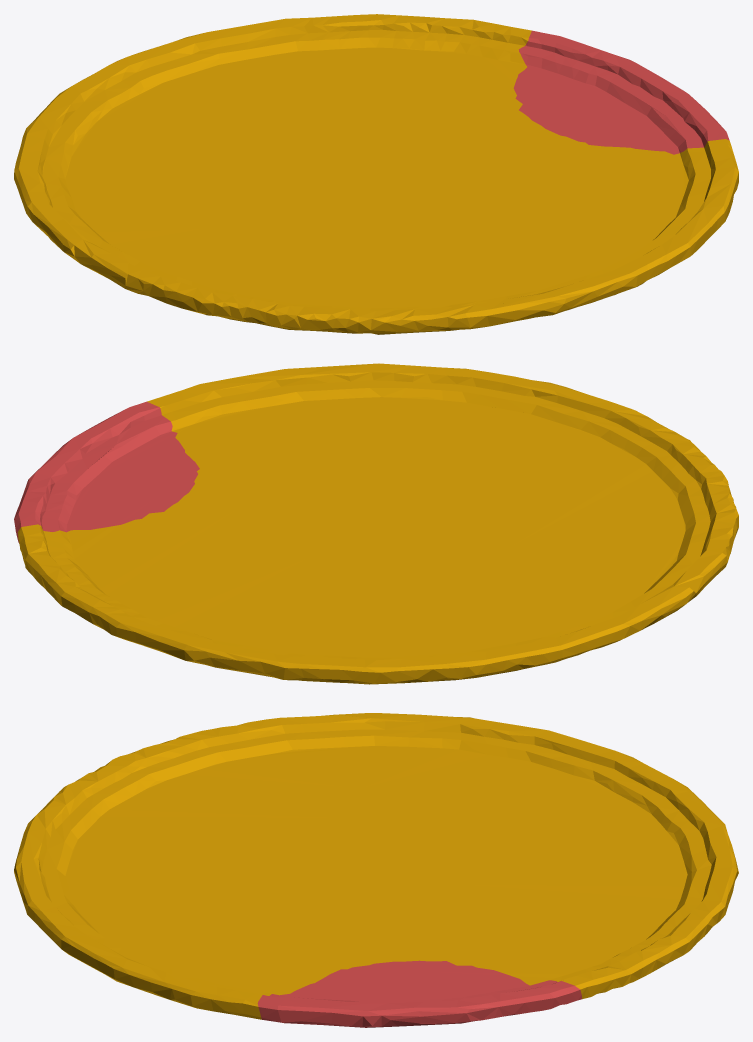
File: fractured_33_2pcs.glb
3 renders of one model, top to bottom at view 1: azimuth 30°, elevation 25°; view 2: azimuth 150°, elevation 25°; view 3: azimuth 270°, elevation 25°, orthographic.
Parts seen in each view (by area): view 1: piece_0.obj, piece_1.obj; view 2: piece_0.obj, piece_1.obj; view 3: piece_0.obj, piece_1.obj.
Part boxes in pixels (x1,y1,x2,y2): piece_0.obj: (14, 14, 738, 334); piece_1.obj: (513, 30, 729, 154); piece_0.obj: (17, 363, 738, 684); piece_1.obj: (14, 401, 199, 543); piece_0.obj: (14, 713, 738, 1019); piece_1.obj: (257, 960, 581, 1027).
Bounding box in the file's own units: 0.9865 × 0.0406 × 1.
